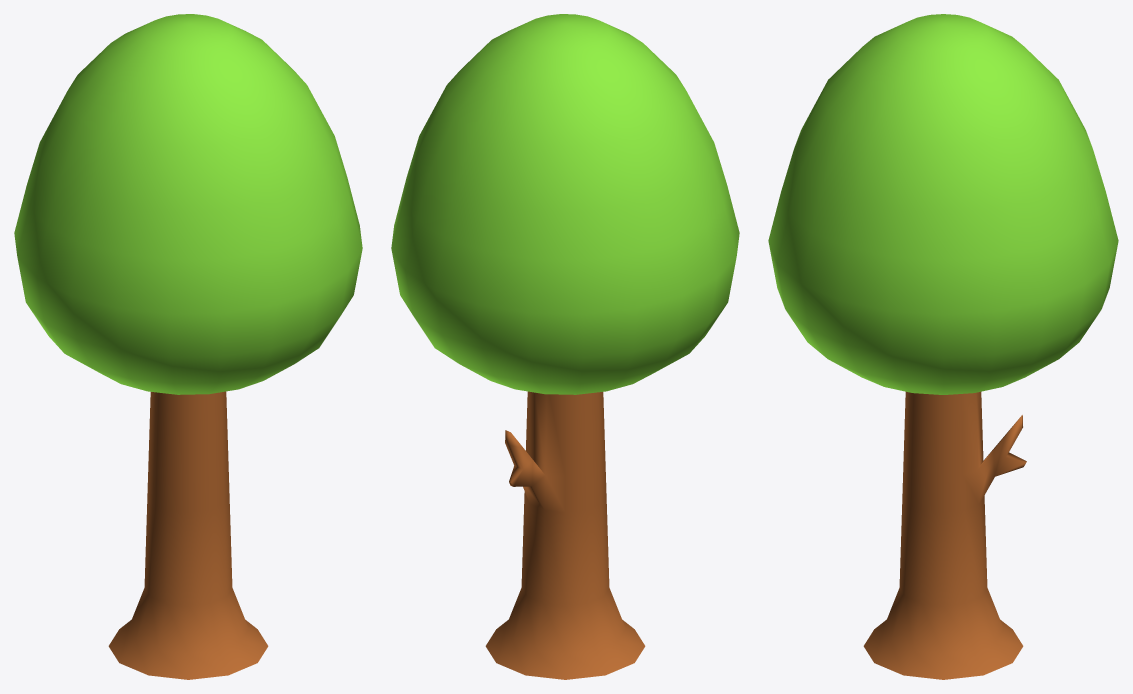
The model's file is Tree1.fbx.
3 views of the same model, side by side, from view 1: azimuth 30°, elevation 25°; view 2: azimuth 150°, elevation 25°; view 3: azimuth 270°, elevation 25° (orthographic).
Parts seen in each view (by area): view 1: Tree 2; view 2: Tree 2; view 3: Tree 2.
Boxes of the visible parts, x1,y1,x2,y2 form: Tree 2: (14, 14, 362, 679); Tree 2: (391, 14, 739, 679); Tree 2: (768, 14, 1118, 679).
Size of the model in its own units: 475 by 931 by 475.
